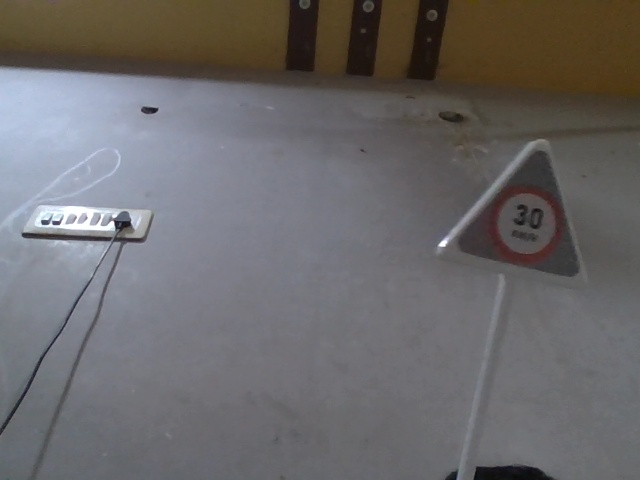speedlimit: (438, 118, 593, 298)
